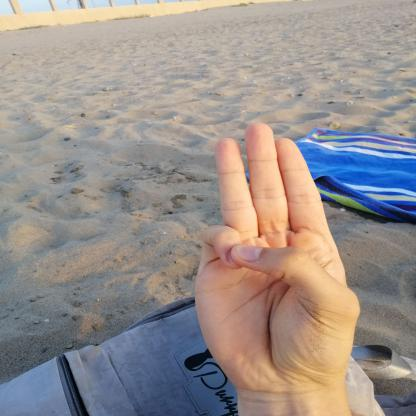THA: (176, 112, 375, 404)
